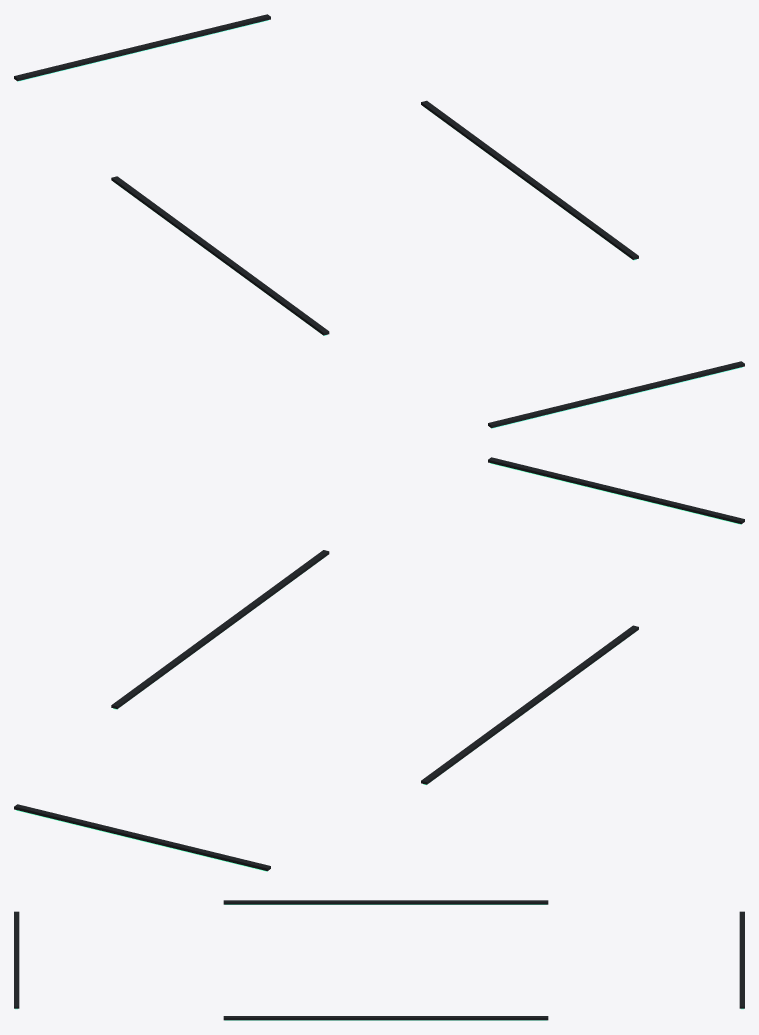
Rendered from kaze_gt.glb.
3 renders of one model, top to bottom at view 1: azimuth 30°, elevation 25°; view 2: azimuth 150°, elevation 25°; view 3: azimuth 270°, elevation 25°, orthographic. The views are drawn at different scales.
Parts seen in each view (by area): view 1: model; view 2: model; view 3: model.
Part boxes in pixels (left/top/right/bottom): model: left=14, top=14, right=744, bottom=428; model: left=14, top=457, right=744, bottom=871; model: left=14, top=900, right=744, bottom=1020.
Bounding box in the file's own units: 1.49 × 0.0181 × 3.9.
2 materials, 1 textured.
